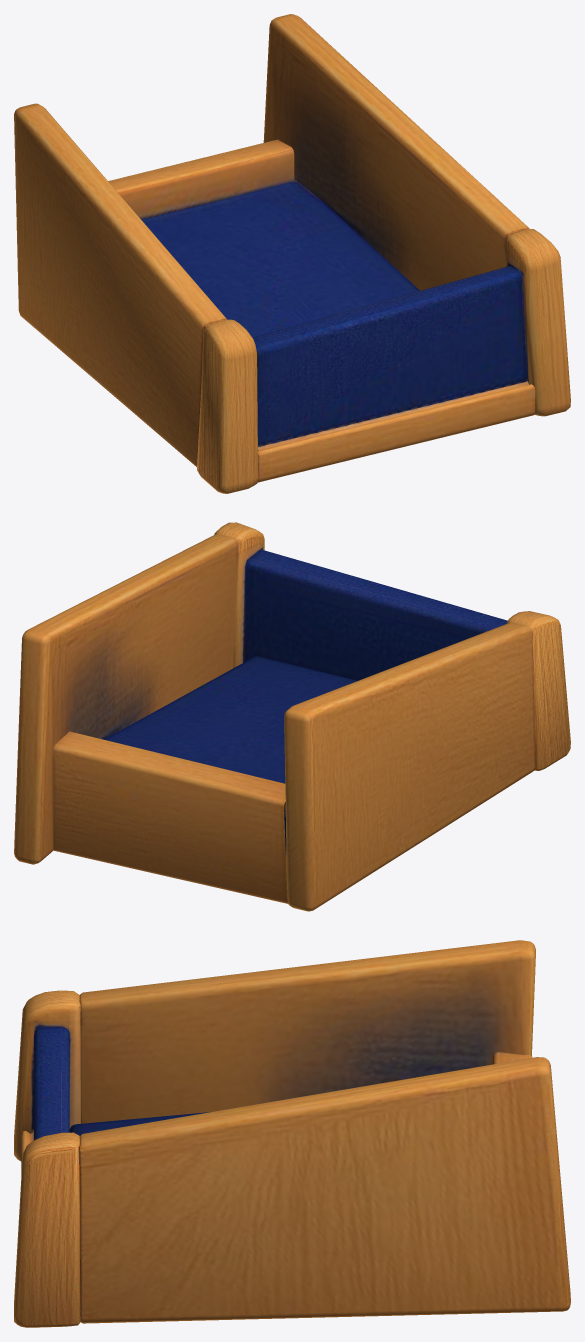
The model's file is bin-miss.glb.
3 views of the same model, one above another, from view 1: azimuth 30°, elevation 25°; view 2: azimuth 150°, elevation 25°; view 3: azimuth 270°, elevation 25° (orthographic). The views are drawn at different scales.
Parts seen in each view (by area): view 1: tripo_node_821455b2-2353-48c7-af84-c8ed0b88ba56; view 2: tripo_node_821455b2-2353-48c7-af84-c8ed0b88ba56; view 3: tripo_node_821455b2-2353-48c7-af84-c8ed0b88ba56.
Part boxes in pixels (x1,y1,x2,y2): tripo_node_821455b2-2353-48c7-af84-c8ed0b88ba56: (14, 14, 570, 493); tripo_node_821455b2-2353-48c7-af84-c8ed0b88ba56: (14, 522, 570, 911); tripo_node_821455b2-2353-48c7-af84-c8ed0b88ba56: (14, 940, 570, 1327).
Bounding box in the file's own units: 0.7847 × 0.4868 × 0.9995.
Materials: 1 (1 with a texture image).
